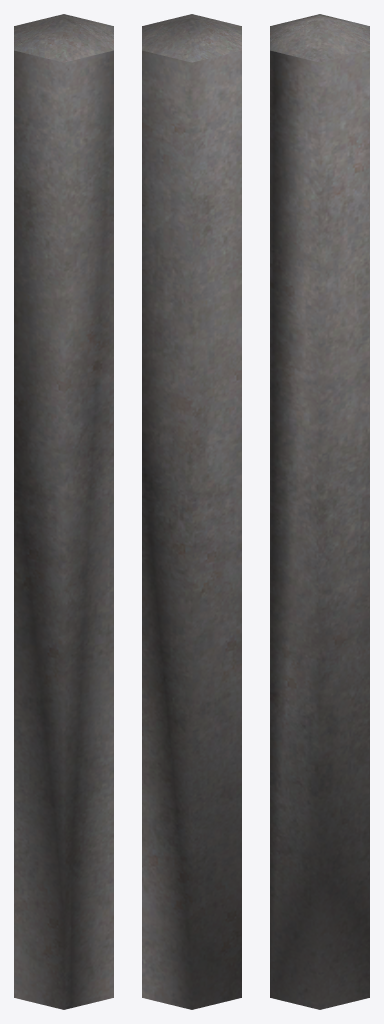
The model's file is Prop_Fangzhuanlan.glb.
3 renders of one model, left to right at view 1: azimuth 90°, elevation 25°; view 2: azimuth 150°, elevation 25°; view 3: azimuth 270°, elevation 25°, orthographic.
Visible parts, largest first — view 1: xiutz_fangzhuanlan; view 2: xiutz_fangzhuanlan; view 3: xiutz_fangzhuanlan.
Part boxes in pixels (left/top/right/bottom): xiutz_fangzhuanlan: left=14, top=14, right=113, bottom=1009; xiutz_fangzhuanlan: left=142, top=14, right=241, bottom=1009; xiutz_fangzhuanlan: left=270, top=14, right=369, bottom=1009.
Size of the model in its own units: 0.178 by 1.65 by 0.1542.
Materials: 1 (1 with a texture image).
